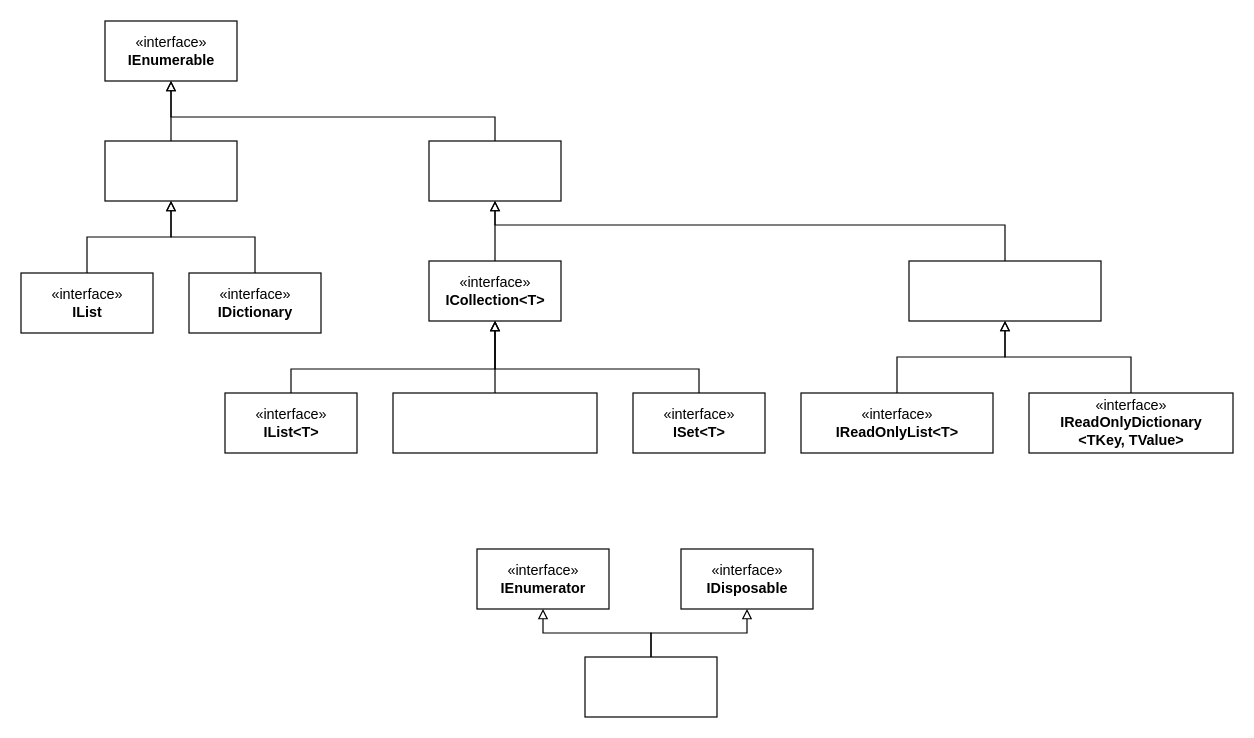
Image size: 1254x738. Some labels were removed from this diagram. The shapes that lost their labels are listed below. From the top down, each one's centre as x and y in pixels, then its label:
the point at 170,170: «interface» ICollection
the point at 494,170: «interface» IEnumerable<T>
the point at 1004,290: «interface» IReadOnlyCollection<T>
the point at 494,422: «interface» IDictionary<TKey, TValue>
the point at 650,686: «interface» IEnumerator<T>
